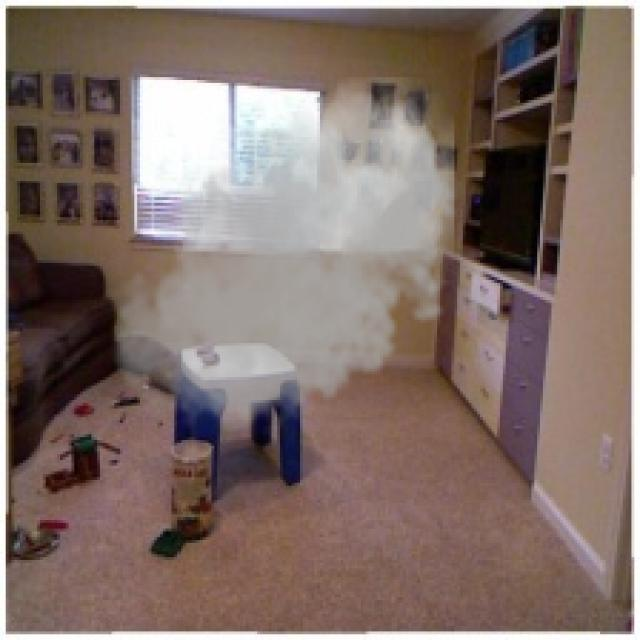smoke: (106, 77, 468, 446)
